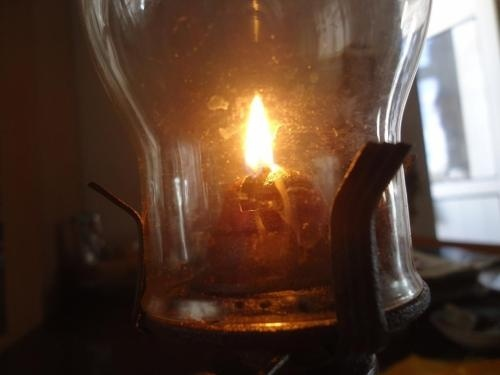fire: (239, 92, 287, 183)
